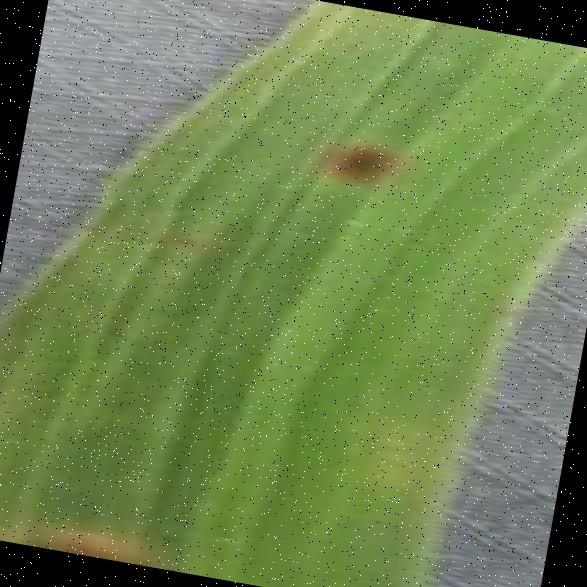Brown_Spot: (299, 118, 409, 198), (164, 220, 200, 253), (97, 315, 132, 342), (152, 523, 180, 547), (160, 197, 191, 217)
